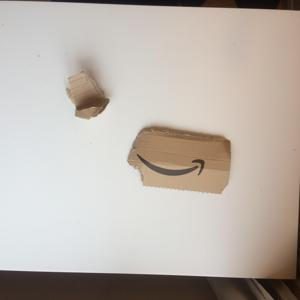cardboard: (120, 123, 237, 199), (60, 68, 114, 122)
